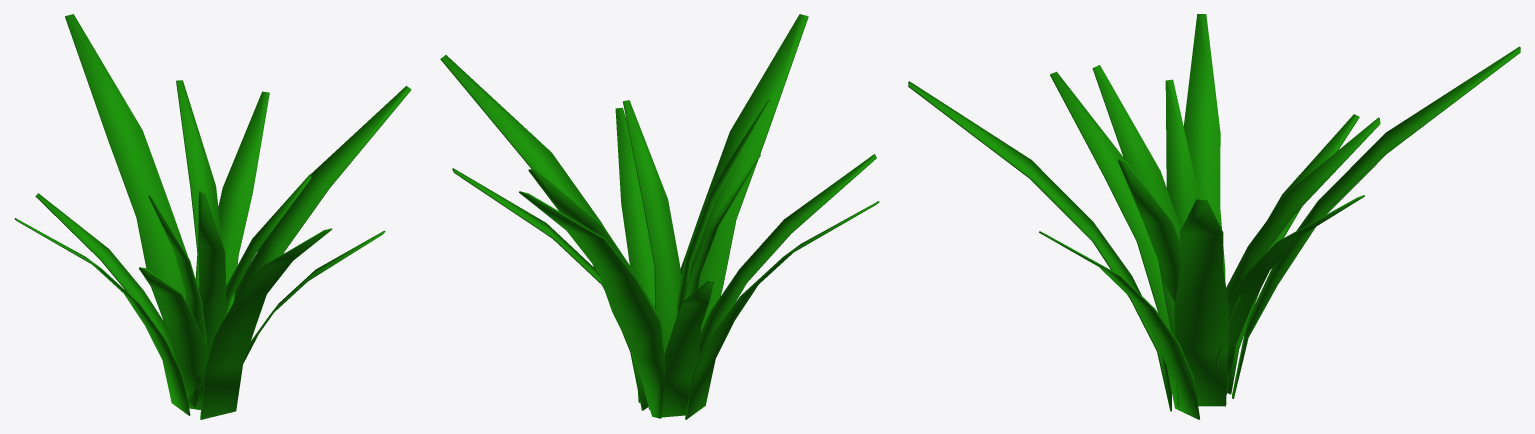
Rendered from Grass.fbx.
3 renders of one model, left to right at view 1: azimuth 30°, elevation 25°; view 2: azimuth 150°, elevation 25°; view 3: azimuth 270°, elevation 25°, orthographic. The views are drawn at different scales.
Visible parts, largest first — view 1: grass 1; view 2: grass 1; view 3: grass 1.
Boxes of the visible parts, x1,y1,x2,y2 form: grass 1: (14, 14, 411, 419); grass 1: (440, 14, 879, 419); grass 1: (908, 14, 1520, 419).
Bounding box in the file's own units: 305 × 219 × 344.
